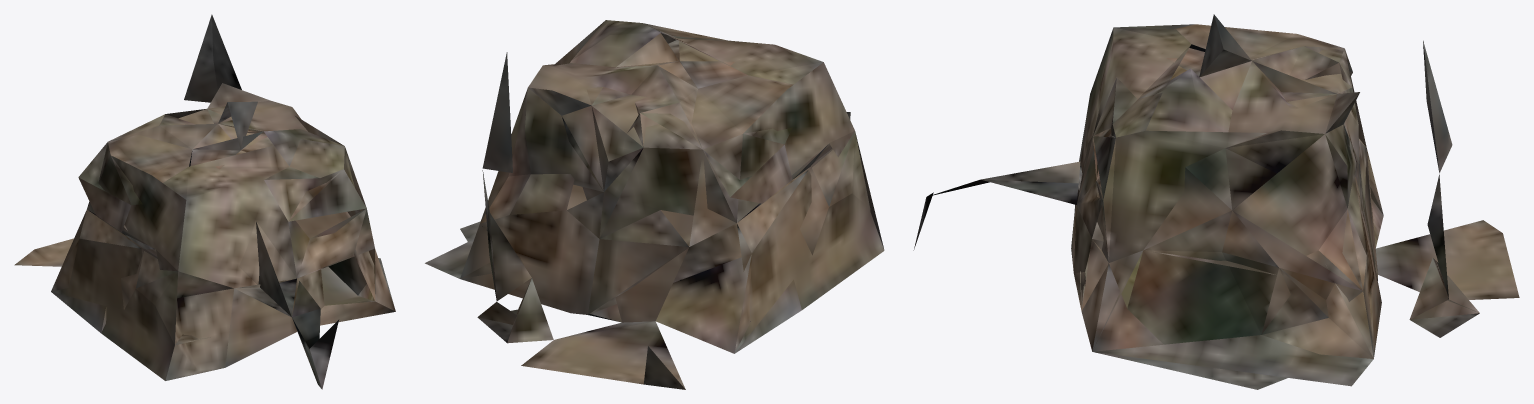
Rendered from outpost_1739388569_lod1.glb.
The picture shows the model from 3 angles, left to right: view 1: azimuth 30°, elevation 25°; view 2: azimuth 150°, elevation 25°; view 3: azimuth 270°, elevation 25°; orthographic projection. The views are drawn at different scales.
Bounding box in the file's own units: 6.99 × 5.59 × 9.98.
Materials: 1 (1 with a texture image).
